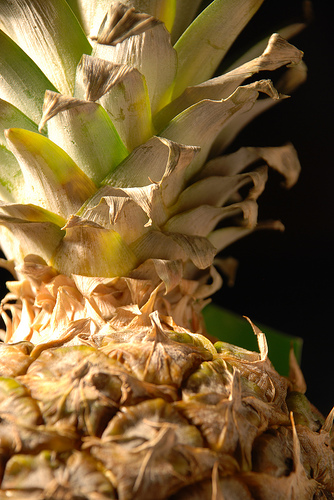pineapple: (0, 0, 332, 498)
